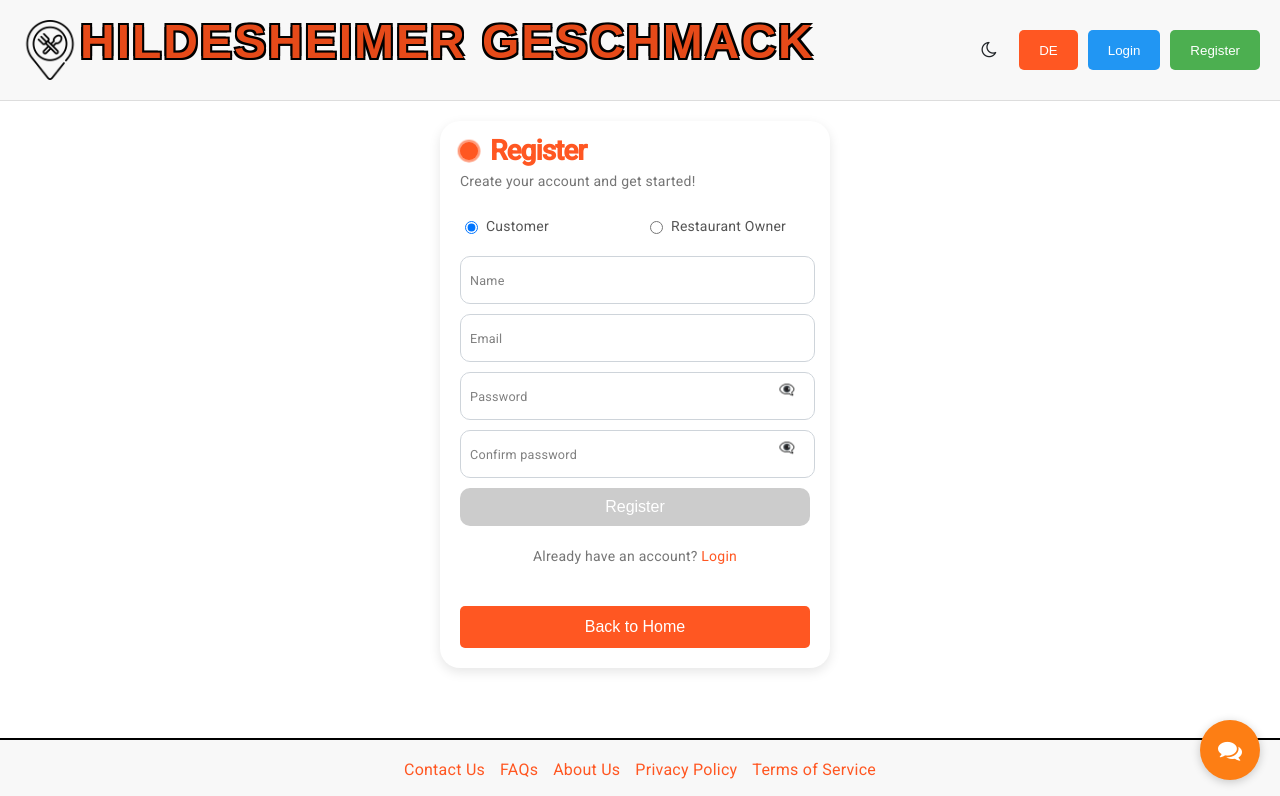
User Registration › should show error if passwords do not match
The image size is (1280, 796).
Type "password123" into the password field named "password" at (638, 396), box top-left (460, 372), bottom-right (815, 420)
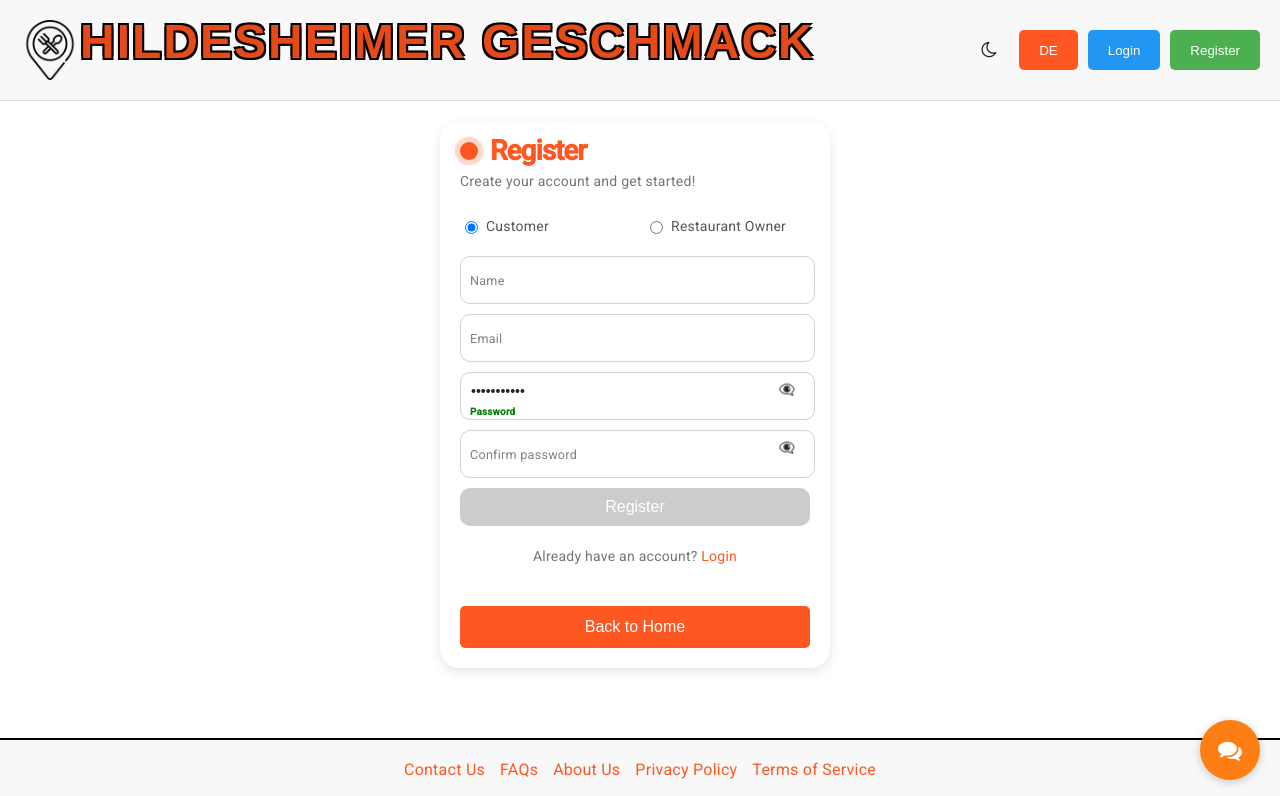
Type "password456" into the password field named "confirmPassword" at (638, 454), box top-left (460, 430), bottom-right (815, 478)
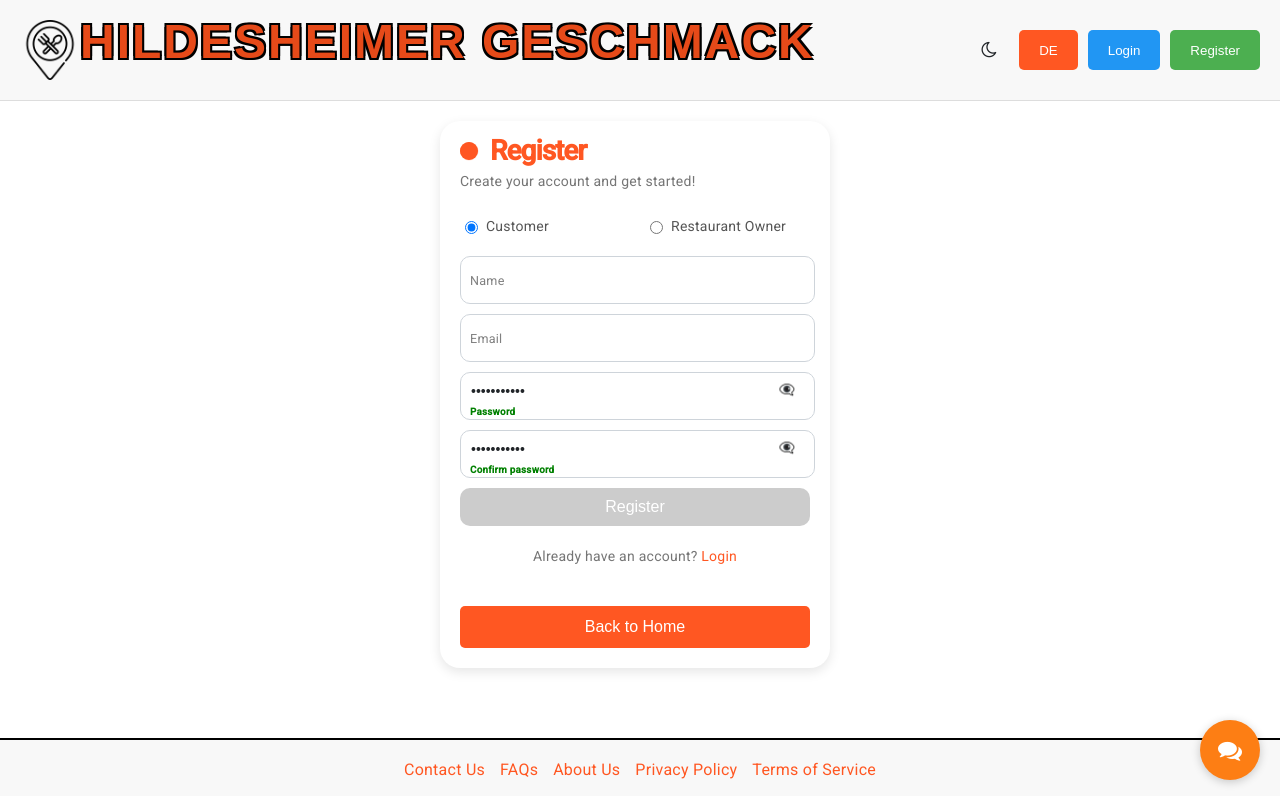
Click the password field named "password" at (638, 396), box top-left (460, 372), bottom-right (815, 420)
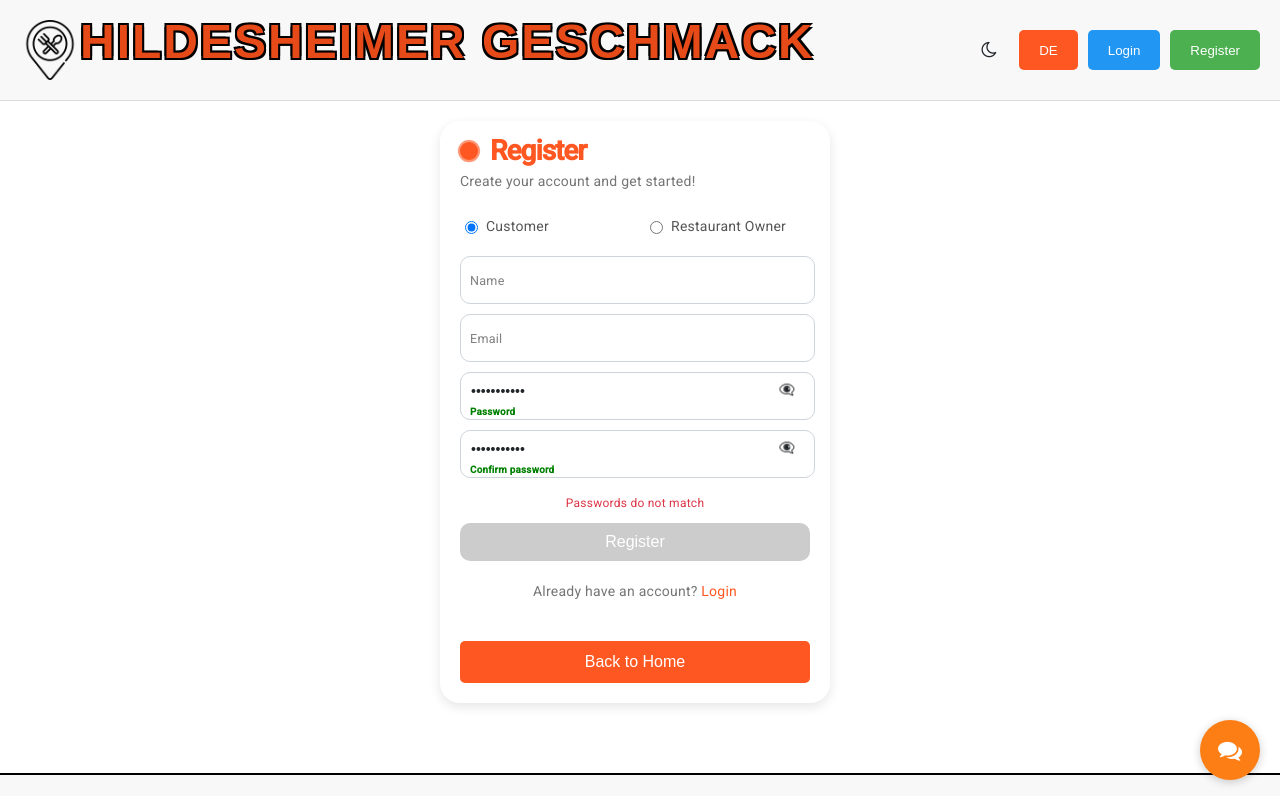
Now the text with class "error-message" reads "Passwords do not match", box top-left (566, 496), bottom-right (705, 510)
